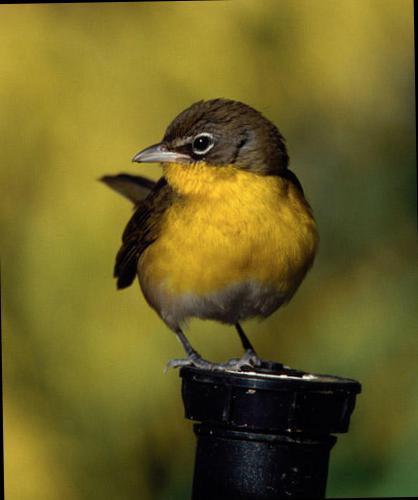bird: (83, 81, 346, 400)
